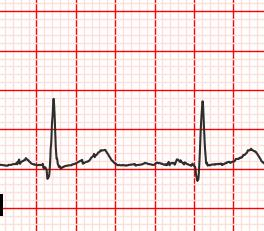LVH: (74, 147, 122, 170)
Pathological Q Wave: (38, 159, 54, 181), (189, 161, 204, 184)
